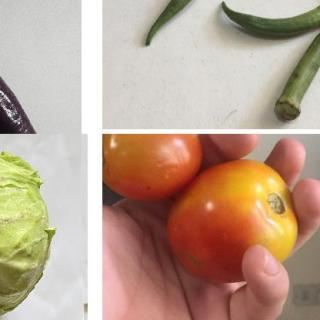Tomat: (101, 134, 303, 298)
